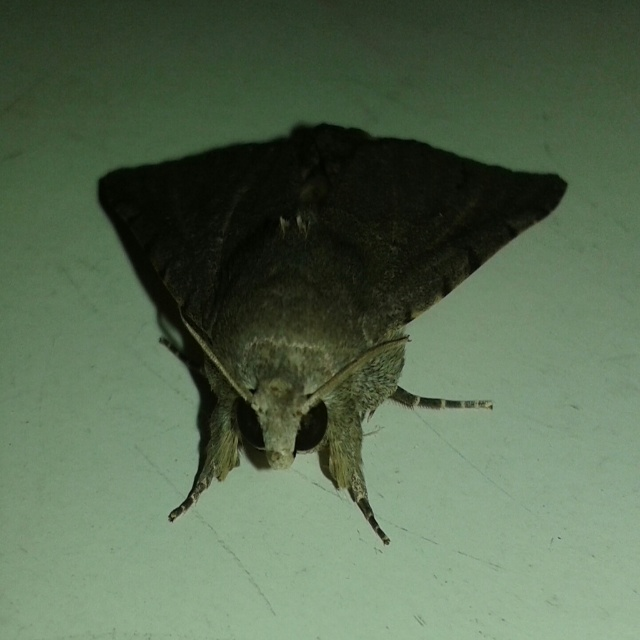Moths and butterflies: (99, 122, 568, 545)
